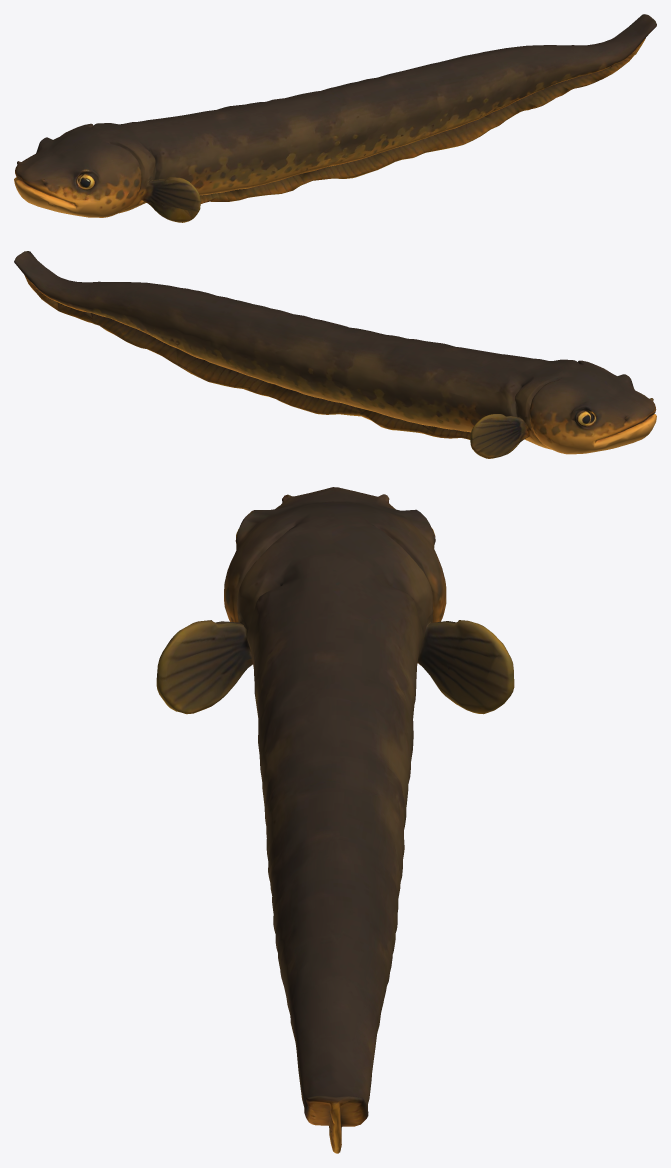
File: fish-elugor.glb
3 renders of one model, top to bottom at view 1: azimuth 30°, elevation 25°; view 2: azimuth 150°, elevation 25°; view 3: azimuth 270°, elevation 25°, orthographic. The views are drawn at different scales.
Visible parts, largest first — view 1: tripo_node_16535731-311f-4288-9ec6-691d6128532a; view 2: tripo_node_16535731-311f-4288-9ec6-691d6128532a; view 3: tripo_node_16535731-311f-4288-9ec6-691d6128532a.
Part boxes in pixels (<box>): tripo_node_16535731-311f-4288-9ec6-691d6128532a: <box>14,14,656,222</box>; tripo_node_16535731-311f-4288-9ec6-691d6128532a: <box>14,251,656,458</box>; tripo_node_16535731-311f-4288-9ec6-691d6128532a: <box>156,487,514,1153</box>.
Size of the model in its own units: 1 by 0.1616 by 0.2446.
Materials: 1 (1 with a texture image).
